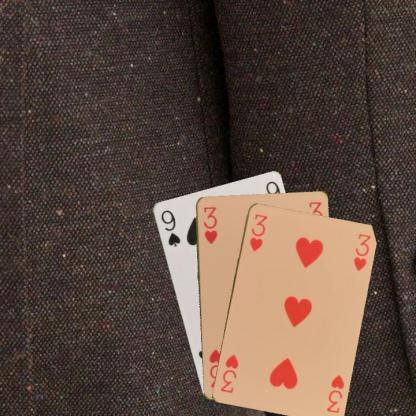3h: (324, 372, 346, 414), (246, 211, 268, 252), (201, 204, 219, 245)
9s: (158, 207, 181, 248)
